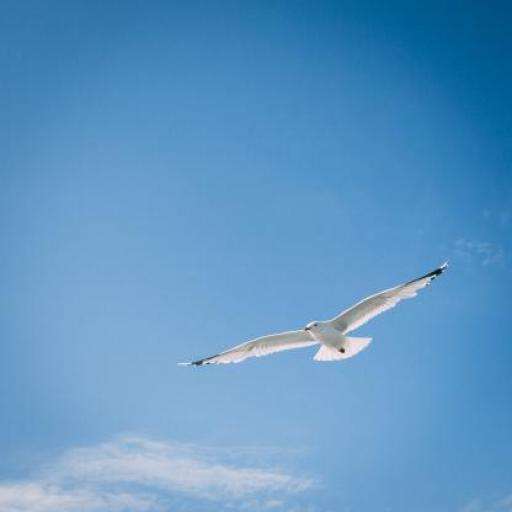bird: (178, 261, 450, 365)
